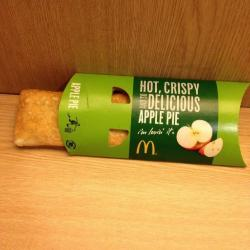apple_pie: (10, 77, 150, 163)
